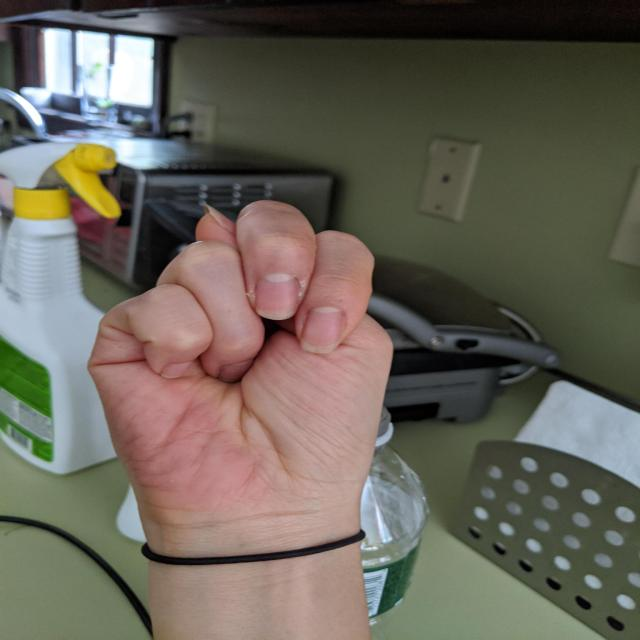N: (81, 192, 398, 530)
